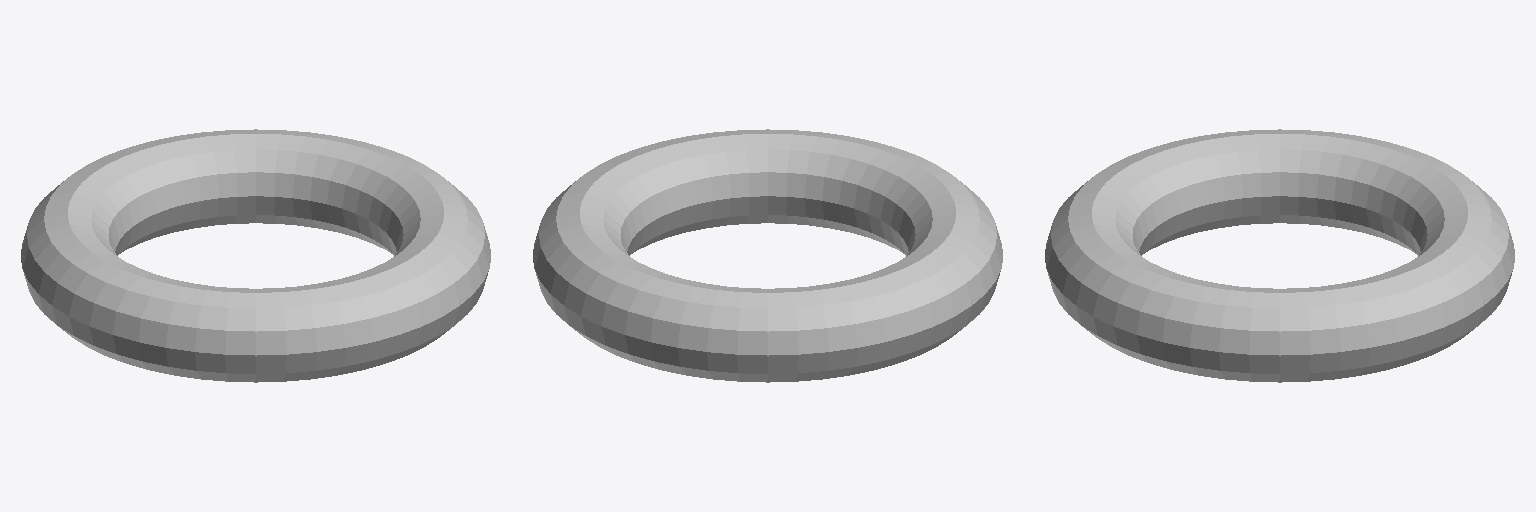
The model's file is testtorus3.obj.
The picture shows the model from 3 angles: view 1: azimuth 30°, elevation 25°; view 2: azimuth 150°, elevation 25°; view 3: azimuth 270°, elevation 25°; orthographic projection.
Parts seen in each view (by area): view 1: Torus; view 2: Torus; view 3: Torus.
Boxes of the visible parts, x1,y1,x2,y2 form: Torus: [21, 129, 490, 382]; Torus: [533, 129, 1002, 382]; Torus: [1045, 129, 1514, 382].
Size of the model in its own units: 2.84 by 0.5686 by 2.84.